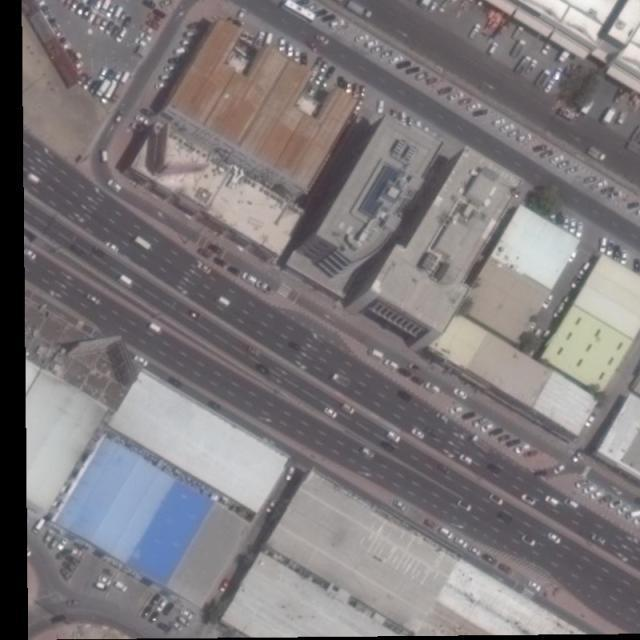vehicle: (282, 1, 318, 22), (346, 1, 374, 20), (514, 54, 532, 77), (130, 234, 151, 253), (600, 106, 618, 126), (95, 80, 112, 99), (509, 40, 526, 59), (588, 147, 608, 163), (523, 58, 539, 77), (536, 68, 550, 88), (84, 293, 105, 306), (214, 294, 232, 309), (331, 373, 350, 387), (512, 25, 527, 42), (489, 492, 506, 507), (241, 272, 259, 286), (589, 533, 608, 546), (102, 239, 118, 254), (458, 498, 474, 513), (438, 526, 454, 541), (196, 261, 213, 275), (118, 274, 135, 288), (519, 492, 536, 506), (256, 281, 274, 294), (66, 51, 82, 65), (469, 23, 483, 39), (393, 499, 409, 513), (482, 552, 498, 566), (386, 430, 402, 444), (570, 274, 584, 290), (453, 388, 470, 401), (425, 381, 442, 394), (25, 172, 42, 185), (520, 534, 538, 546), (548, 532, 563, 546), (565, 496, 580, 510), (366, 348, 385, 359), (98, 574, 114, 587), (34, 518, 47, 534), (106, 178, 122, 191), (247, 345, 263, 358), (454, 537, 470, 550), (167, 377, 185, 388), (556, 50, 570, 64), (70, 60, 85, 73), (207, 399, 222, 412), (362, 446, 377, 459), (527, 580, 542, 593), (354, 98, 366, 114), (115, 27, 127, 43), (137, 31, 153, 43), (50, 534, 62, 550), (514, 444, 533, 454), (497, 513, 514, 524), (543, 495, 560, 506), (89, 80, 102, 94), (115, 580, 128, 594), (570, 450, 583, 464), (541, 42, 554, 56), (105, 21, 117, 36), (24, 250, 39, 262), (487, 41, 499, 56), (287, 340, 302, 352), (410, 374, 425, 386), (474, 416, 489, 428), (495, 434, 513, 444), (209, 243, 224, 255), (148, 321, 163, 333), (323, 406, 338, 418), (410, 427, 425, 439), (554, 66, 566, 81), (580, 262, 592, 277), (134, 115, 150, 126), (384, 359, 400, 370), (134, 355, 150, 366), (617, 505, 633, 516), (446, 92, 463, 102), (319, 13, 336, 23), (488, 428, 505, 438), (97, 66, 109, 80), (435, 413, 449, 425), (227, 265, 241, 277), (256, 365, 270, 377), (342, 403, 356, 415), (460, 454, 474, 466), (543, 294, 555, 308), (139, 107, 154, 118), (316, 33, 331, 44), (540, 148, 555, 159), (398, 366, 413, 377), (498, 563, 513, 574), (330, 19, 346, 29), (472, 108, 488, 118), (460, 411, 476, 421), (506, 438, 522, 448), (326, 66, 338, 79), (438, 86, 451, 98), (162, 602, 174, 615), (134, 38, 148, 49), (146, 19, 160, 30), (424, 517, 438, 528), (584, 415, 595, 429), (488, 464, 502, 475), (50, 30, 65, 40), (518, 133, 533, 143), (499, 124, 514, 134), (398, 390, 413, 400), (196, 248, 211, 258), (594, 179, 609, 189), (314, 74, 326, 86), (82, 78, 94, 90), (77, 74, 89, 86), (149, 611, 161, 623), (600, 494, 612, 506), (577, 222, 585, 240), (106, 6, 117, 19), (543, 80, 554, 93), (440, 1, 451, 14), (568, 249, 579, 262), (255, 32, 265, 46), (415, 72, 429, 82), (312, 8, 326, 18), (45, 529, 55, 543), (286, 467, 296, 481), (180, 610, 194, 620), (55, 549, 69, 559), (408, 362, 422, 372), (590, 491, 604, 501), (550, 154, 564, 164), (436, 465, 450, 475), (614, 245, 622, 262), (184, 30, 199, 39), (467, 102, 482, 111), (319, 62, 330, 74), (60, 567, 71, 579), (178, 616, 190, 627), (558, 159, 570, 170), (94, 15, 104, 28), (98, 19, 108, 32), (398, 61, 411, 71), (158, 621, 171, 631), (219, 580, 229, 593), (469, 546, 482, 556), (553, 464, 566, 474), (610, 500, 623, 510), (627, 510, 640, 520), (154, 8, 167, 18), (382, 442, 395, 452), (150, 594, 160, 607), (180, 39, 196, 47), (174, 47, 190, 55), (286, 42, 294, 58), (570, 218, 578, 234), (562, 214, 570, 230), (279, 38, 288, 52), (309, 39, 318, 53), (582, 485, 596, 494), (576, 480, 590, 489), (606, 238, 613, 256), (621, 248, 628, 266), (68, 555, 79, 566), (390, 55, 402, 65), (367, 40, 379, 50), (355, 34, 370, 42), (157, 600, 167, 612), (58, 538, 68, 550), (266, 501, 276, 513), (480, 424, 495, 432), (429, 1, 439, 13), (70, 1, 79, 14), (265, 34, 274, 47), (406, 66, 419, 75), (303, 3, 316, 12), (213, 257, 226, 266), (525, 450, 539, 458), (600, 238, 607, 254), (86, 13, 97, 23), (627, 200, 638, 210), (382, 50, 394, 59), (142, 606, 151, 618), (354, 83, 361, 98), (448, 407, 463, 414), (169, 57, 182, 65), (377, 101, 385, 114), (399, 112, 407, 125), (299, 53, 307, 66), (130, 124, 143, 132), (459, 98, 472, 106), (601, 186, 614, 194), (608, 190, 621, 198), (566, 166, 579, 174), (583, 175, 596, 183), (96, 1, 106, 11), (112, 28, 122, 38), (172, 622, 182, 632), (509, 129, 520, 138), (64, 562, 75, 571), (76, 543, 87, 552), (294, 1, 308, 8), (164, 65, 176, 73), (426, 77, 438, 85), (494, 118, 506, 126), (534, 144, 546, 152), (294, 49, 301, 62), (346, 81, 353, 94), (418, 1, 431, 8), (237, 9, 246, 19), (102, 1, 111, 11), (119, 12, 127, 23), (154, 84, 168, 90), (160, 1, 171, 8), (72, 550, 83, 557), (634, 258, 639, 273), (159, 75, 171, 81), (361, 88, 367, 98), (633, 518, 640, 526), (635, 209, 640, 217), (82, 1, 89, 5), (150, 1, 157, 4), (59, 1, 65, 3)
